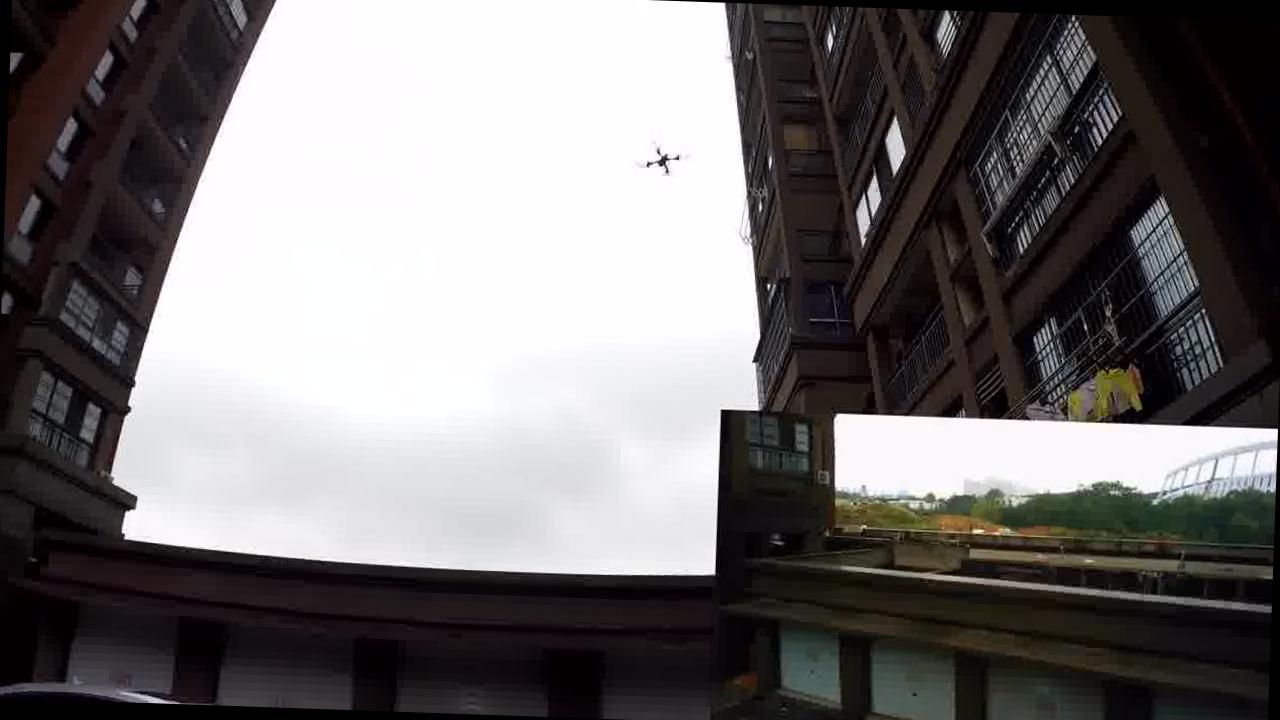drone: (636, 142, 686, 178)
